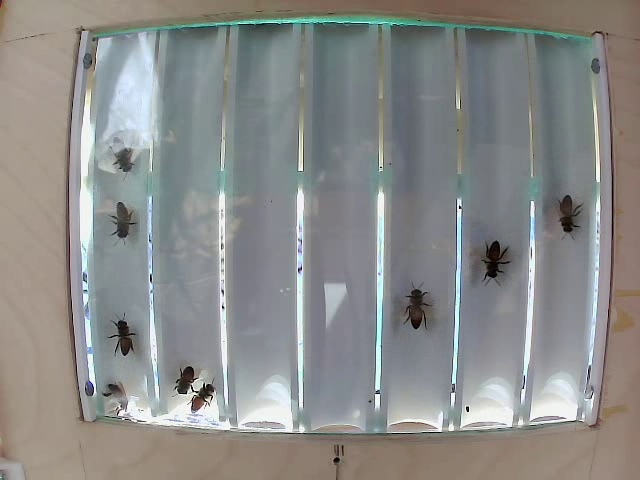bee: (110, 137, 156, 189), (106, 197, 148, 252), (402, 267, 432, 338), (477, 220, 504, 291), (104, 312, 135, 366), (553, 188, 587, 234), (169, 367, 201, 397), (191, 379, 220, 410)
